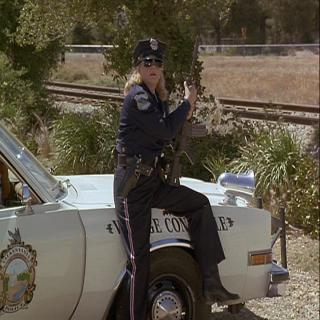gun: (160, 37, 211, 193)
